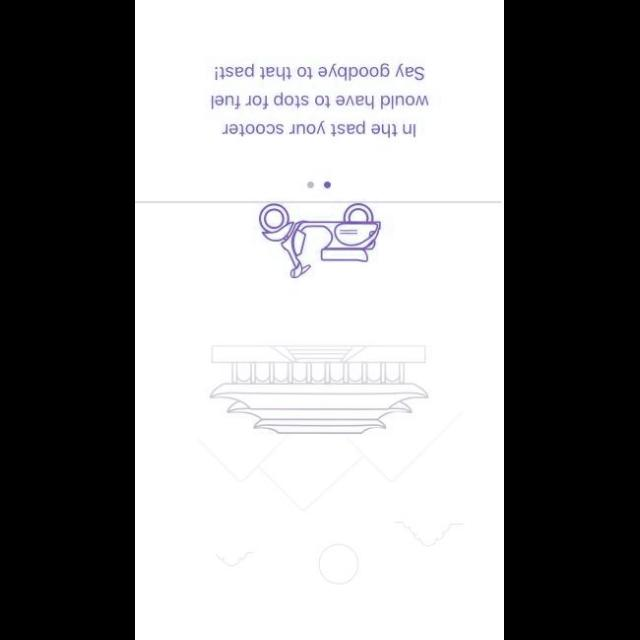image: (194, 343, 466, 585), (257, 200, 383, 280)
pageindicator: (308, 180, 332, 188)
text: (211, 63, 429, 139)
